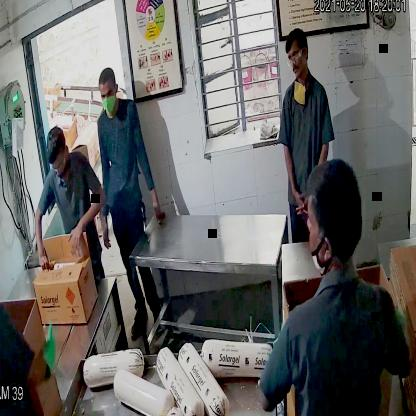goggles: (283, 49, 307, 69)
no_goggles: (100, 87, 116, 104)
